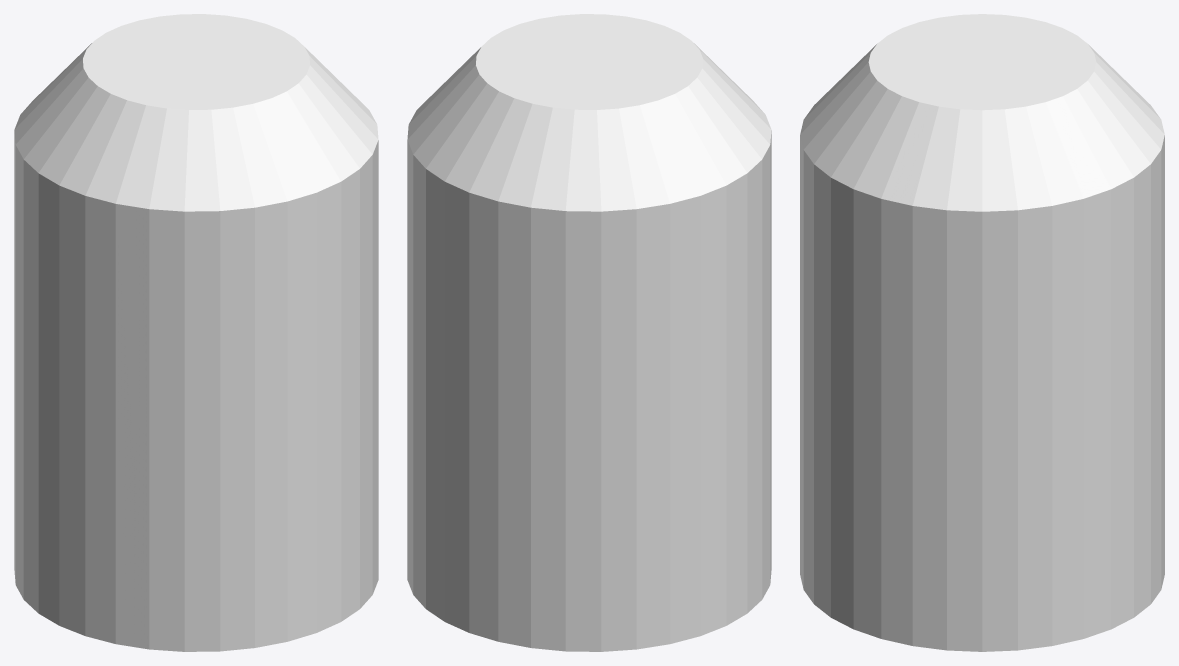
File: ammo.gltf
3 renders of one model, left to right at view 1: azimuth 30°, elevation 25°; view 2: azimuth 150°, elevation 25°; view 3: azimuth 270°, elevation 25°, orthographic.
Visible parts, largest first — view 1: 円柱; view 2: 円柱; view 3: 円柱.
Part boxes in pixels (x1,y1,x2,y2): 円柱: (14,14,378,651); 円柱: (407,14,771,651); 円柱: (800,14,1164,651).
Size of the model in its own units: 1 by 1.55 by 1.
1 material, 1 textured.
